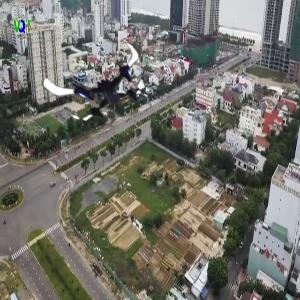drone: (56, 35, 155, 134)
